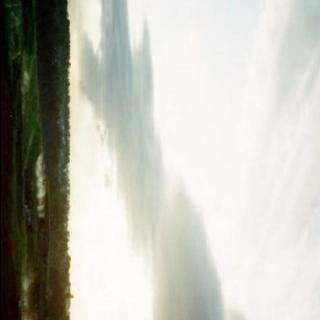Stratocumulus: (75, 0, 320, 320)
